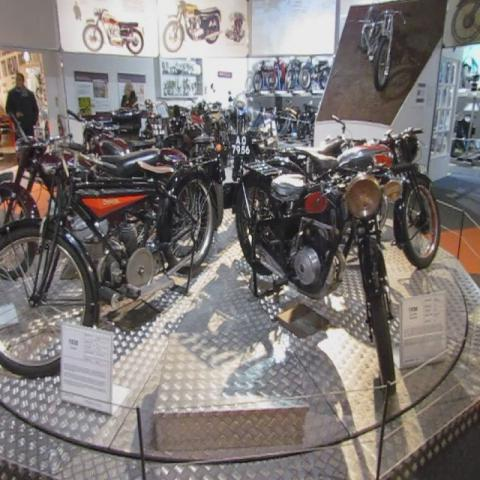motorcycle: (0, 158, 226, 380), (222, 140, 403, 396), (1, 116, 169, 280), (311, 114, 441, 271), (67, 108, 163, 157), (109, 100, 184, 147), (161, 0, 225, 53), (83, 7, 144, 55), (189, 133, 223, 162)
